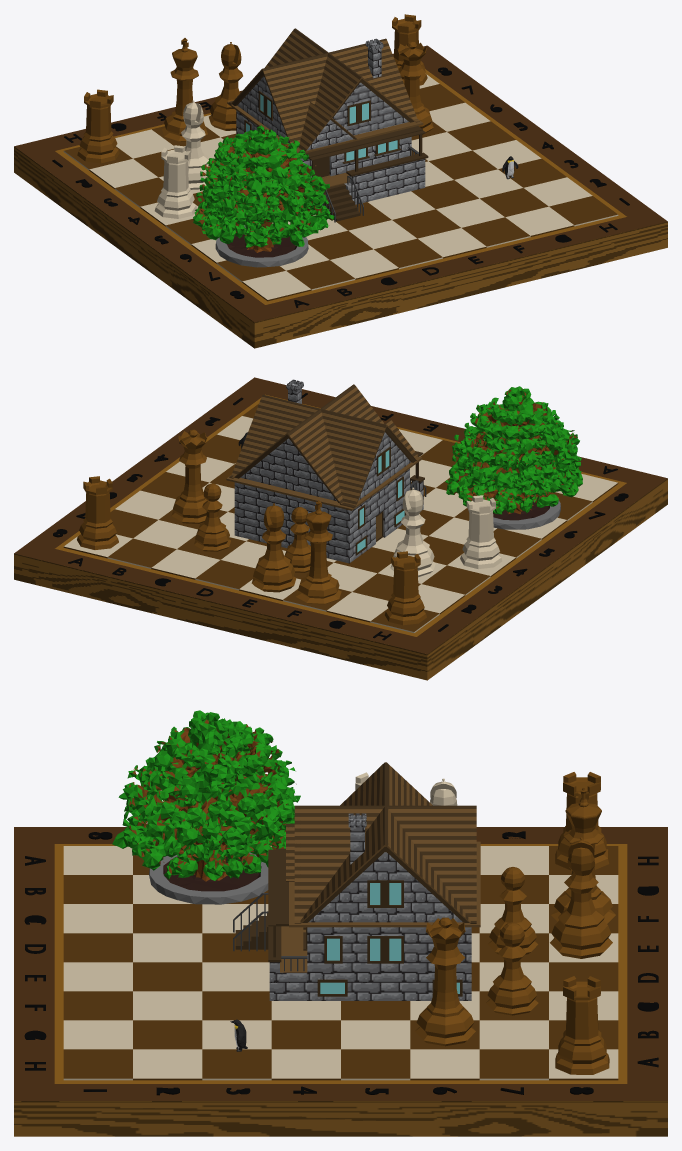
3 renders of one model, top to bottom at view 1: azimuth 30°, elevation 25°; view 2: azimuth 150°, elevation 25°; view 3: azimuth 270°, elevation 25°, orthographic. The views are drawn at different scales.
Visible parts, largest first — view 1: Cube.002, Cube.586, OBJRANDOM_CEIBA; view 2: Cube.002, Cube.586, OBJRANDOM_CEIBA; view 3: Cube.002, Cube.586, OBJRANDOM_CEIBA.
Part boxes in pixels (box(x1,y1,x2,y2)): Cube.002: box(14, 14, 667, 348); Cube.586: box(227, 28, 428, 222); OBJRANDOM_CEIBA: box(193, 125, 334, 267); Cube.002: box(14, 377, 667, 680); Cube.586: box(226, 379, 426, 563); OBJRANDOM_CEIBA: box(445, 386, 582, 529); Cube.002: box(14, 772, 667, 1136); Cube.586: box(233, 762, 480, 1000); OBJRANDOM_CEIBA: box(112, 710, 300, 904).
Bounding box in the file's own units: 3981 × 1516 × 4012.
24 materials, 4 textured.
